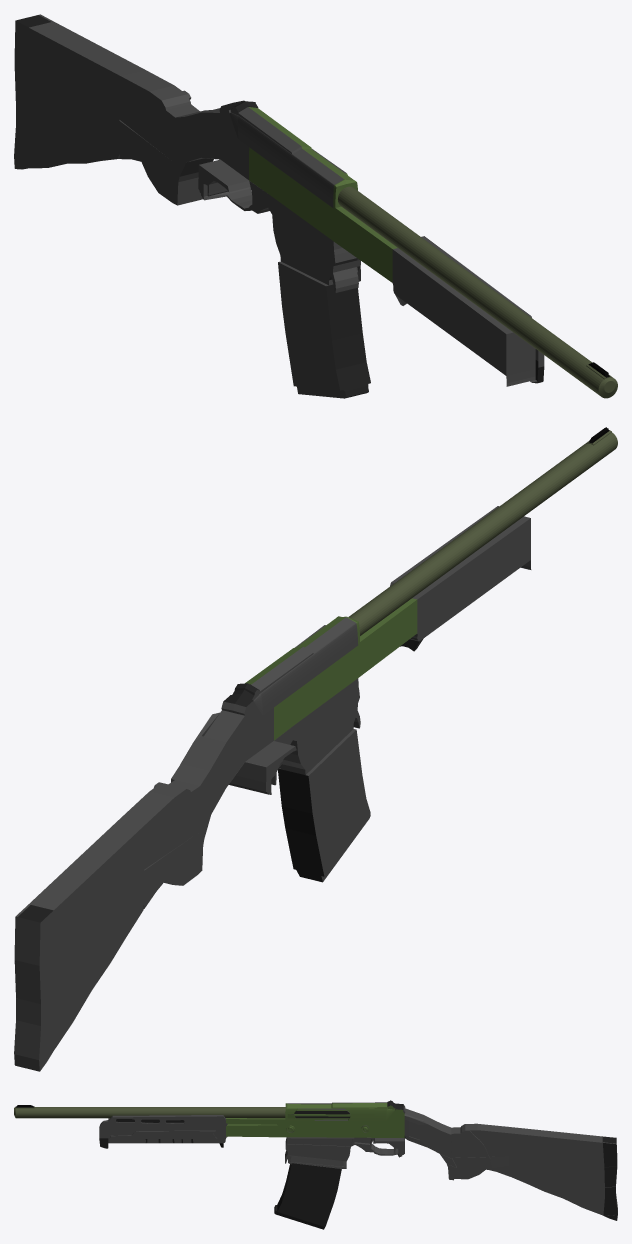
File: Shotgun.fbx
3 views of the same model, one above another, from view 1: azimuth 30°, elevation 25°; view 2: azimuth 150°, elevation 25°; view 3: azimuth 270°, elevation 25° (orthographic). The views are drawn at different scales.
Visible parts, largest first — view 1: 1, Cylinder; view 2: 1, Cylinder; view 3: 1, Cylinder.
Boxes of the visible parts, x1,y1,x2,y2 form: 1: (14, 14, 544, 398); Cylinder: (338, 186, 617, 398); 1: (14, 506, 531, 1071); Cylinder: (348, 427, 617, 635); 1: (99, 1100, 617, 1229); Cylinder: (14, 1105, 285, 1118).
Bounding box in the file's own units: 26.34 × 107 × 465.
